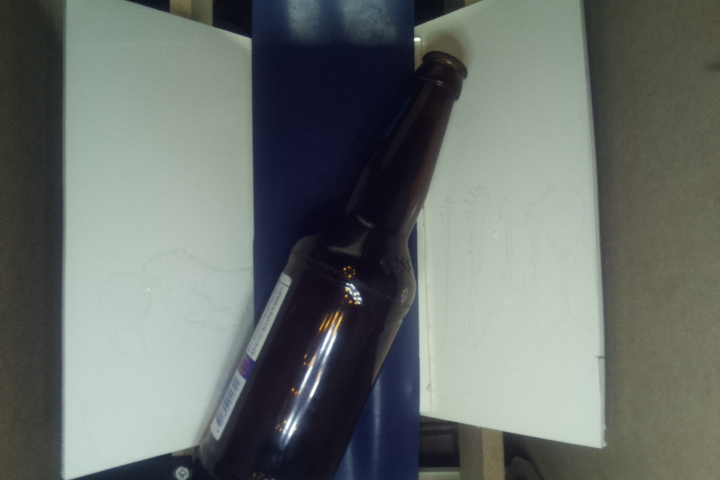makju: (186, 49, 470, 480)
